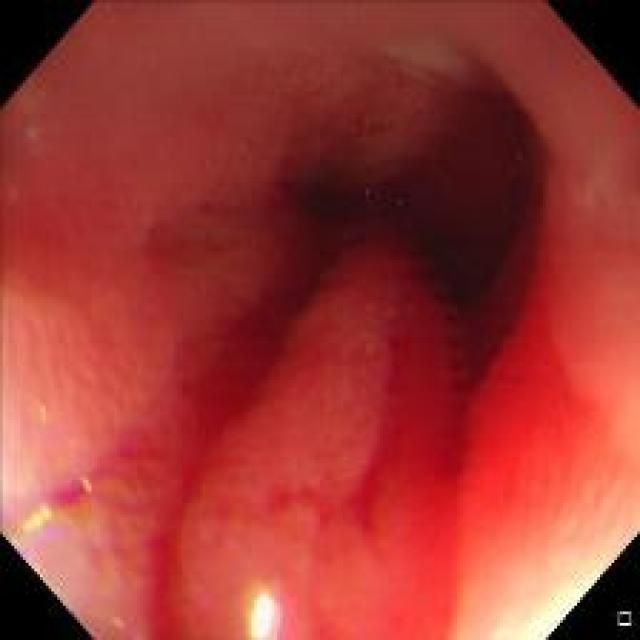blur: (96, 52, 610, 525)
bubbles: (359, 184, 386, 204), (392, 190, 406, 206)
color misalignment: (5, 470, 95, 544), (22, 121, 54, 158)
contrast: (391, 102, 531, 314), (296, 164, 392, 234)
saturation: (461, 502, 634, 636)
specularity: (240, 576, 281, 635)
